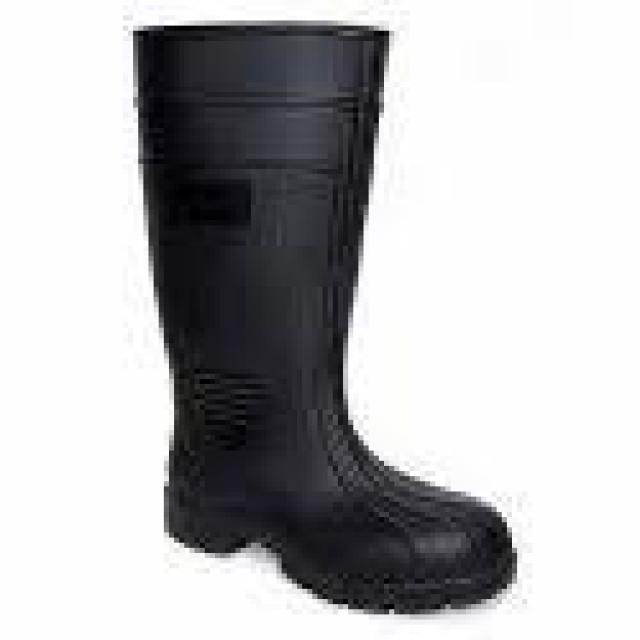shoes: (133, 28, 523, 616)
